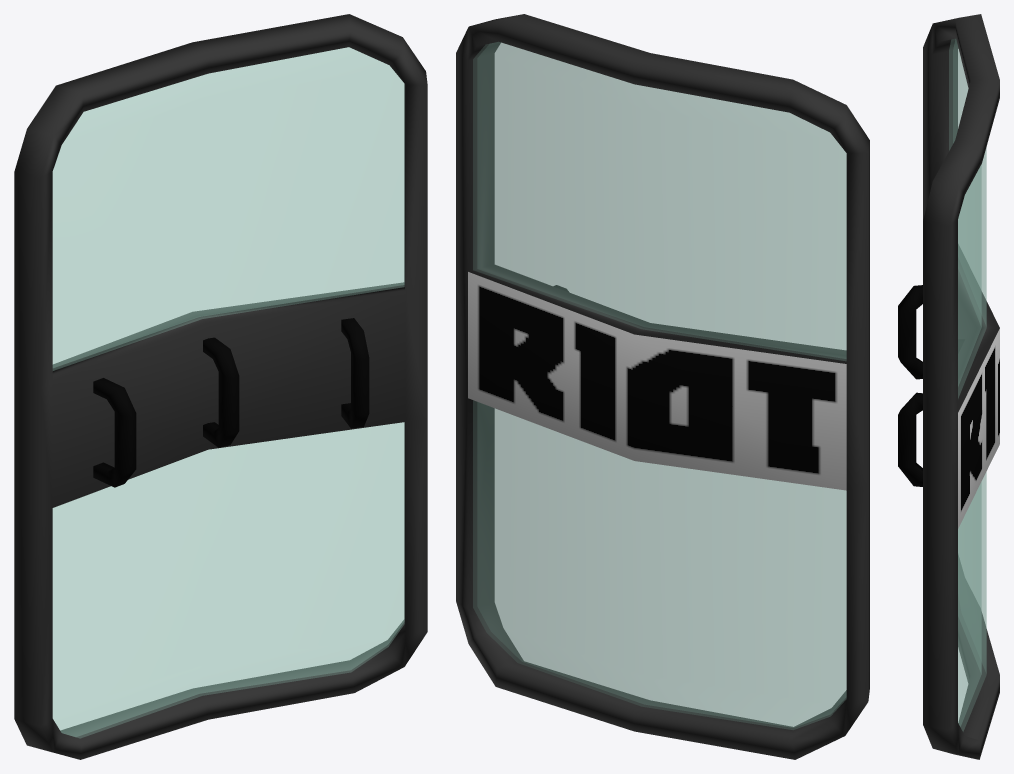
The model's file is RiotShield.obj.
The picture shows the model from 3 angles, left to right: view 1: azimuth 30°, elevation 25°; view 2: azimuth 150°, elevation 25°; view 3: azimuth 270°, elevation 25°; orthographic projection. The views are drawn at different scales.
Parts seen in each view (by area): view 1: Window, Handle; view 2: Window, Handle; view 3: Handle, Window.
Part boxes in pixels (x1,y1,x2,y2): Window: (52,47,404,738); Handle: (14,14,427,759); Window: (473,42,846,729); Handle: (456,14,869,759); Handle: (898,14,999,759); Window: (949,39,986,731).
Size of the model in its own units: 1.71 by 2.64 by 0.3974.
Materials: 2 (2 with a texture image).
